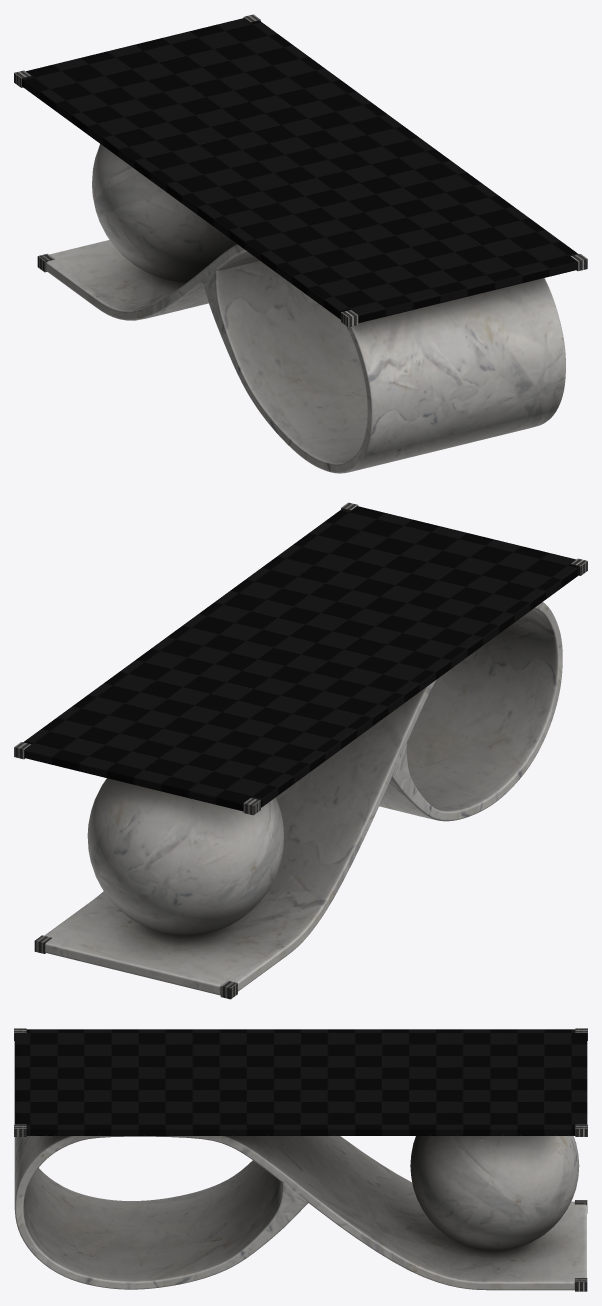
The model's file is fancy_table.glb.
The picture shows the model from 3 angles, top to bottom: view 1: azimuth 30°, elevation 25°; view 2: azimuth 150°, elevation 25°; view 3: azimuth 270°, elevation 25°; orthographic projection. The views are drawn at different scales.
Parts seen in each view (by area): view 1: Object_2, Object_3; view 2: Object_2, Object_3; view 3: Object_2, Object_3.
Part boxes in pixels (<box>): Object_2: <box>14,14,587,327</box>; Object_3: <box>45,240,565,473</box>; Object_2: <box>14,502,587,999</box>; Object_3: <box>44,602,562,995</box>; Object_2: <box>14,1028,587,1291</box>; Object_3: <box>14,1136,586,1290</box>.
Bounding box in the file's own units: 92.67 × 73.79 × 224.
Materials: 1 (1 with a texture image).
